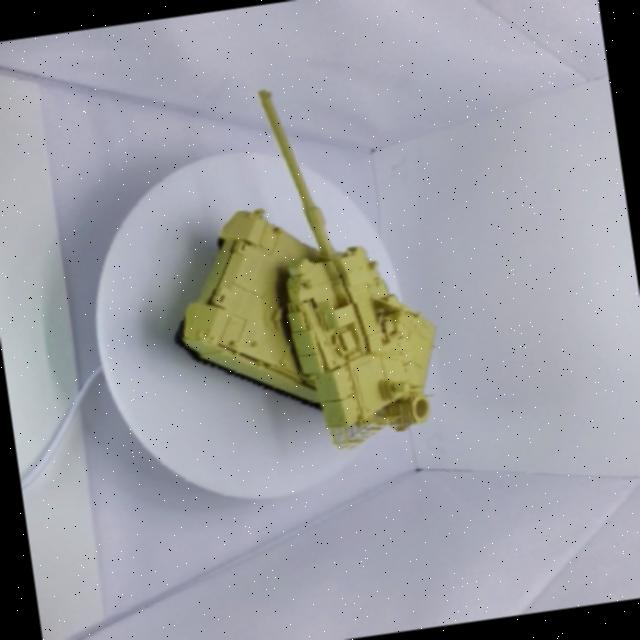korea tank: (117, 56, 480, 488)
